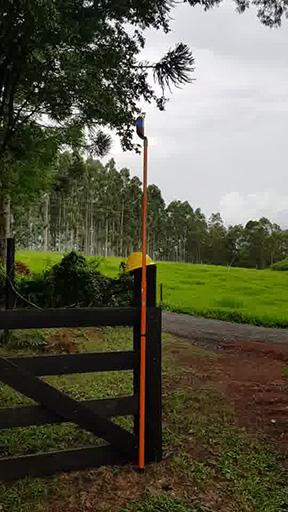Vara_Manobra: (137, 140, 150, 471)
